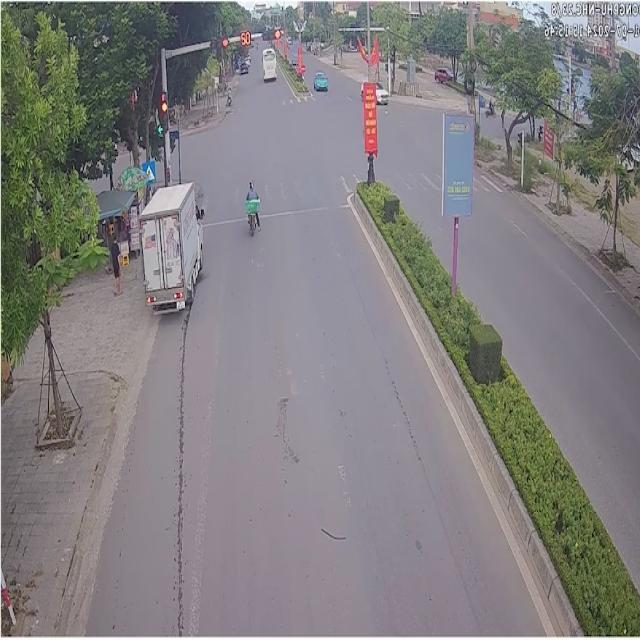car: (138, 180, 202, 311), (260, 46, 274, 78), (374, 79, 387, 103), (312, 70, 326, 89)
motobike: (243, 180, 258, 232)
red_light: (160, 88, 168, 131), (209, 34, 229, 49), (262, 27, 280, 40), (240, 30, 252, 45)
stop_line: (259, 203, 346, 216), (202, 215, 244, 225)
